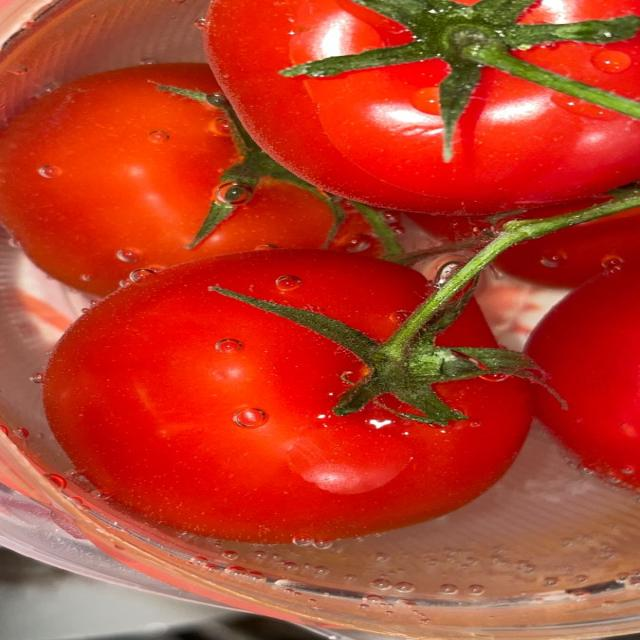tomato: (44, 250, 530, 543), (206, 0, 639, 214), (0, 63, 333, 295), (527, 265, 639, 487), (494, 208, 639, 287)
